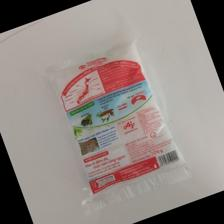Ajinomoto: (44, 42, 185, 205)
